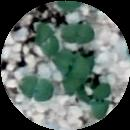Basil: (22, 74, 59, 103), (59, 48, 93, 73), (59, 21, 95, 42), (94, 85, 111, 120), (40, 27, 59, 54), (63, 69, 84, 92)
